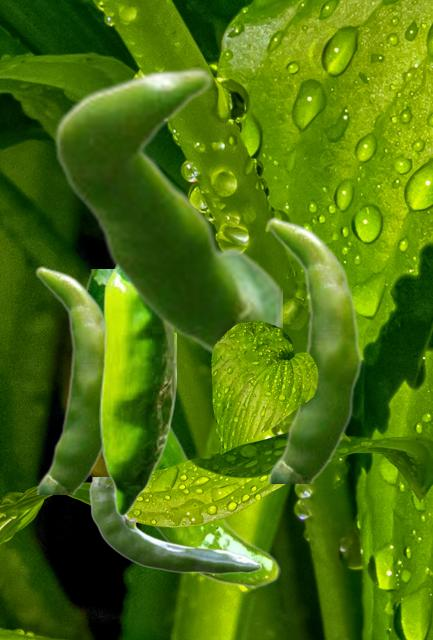green_chili: (54, 67, 281, 357), (85, 269, 279, 587), (265, 216, 362, 482), (99, 266, 175, 515), (89, 477, 260, 573), (34, 265, 103, 493)
